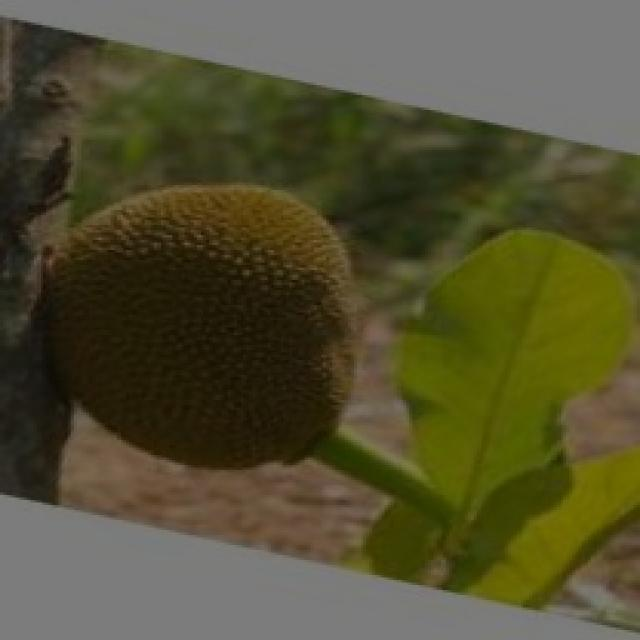Fruit: (0, 142, 400, 500)
